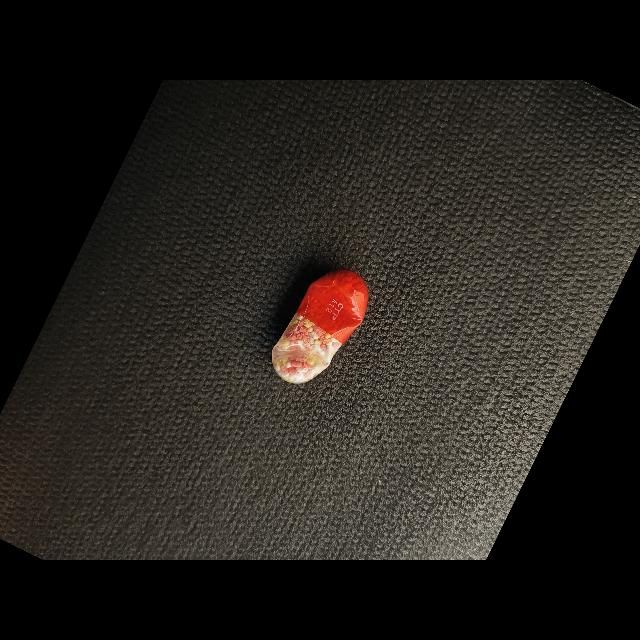Defective Capsule: (272, 270, 368, 384)
